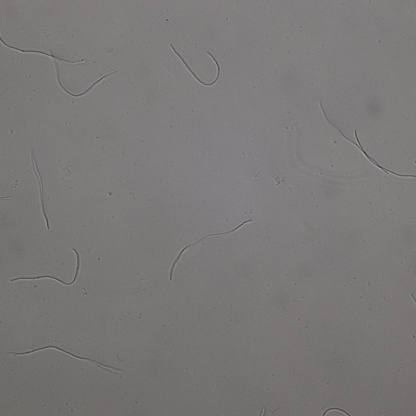Sensitive: (321, 102, 416, 179), (170, 219, 251, 281), (8, 344, 121, 372), (52, 52, 117, 97), (11, 247, 81, 288), (1, 37, 85, 65), (171, 43, 221, 87), (31, 151, 49, 228), (322, 407, 350, 416)
